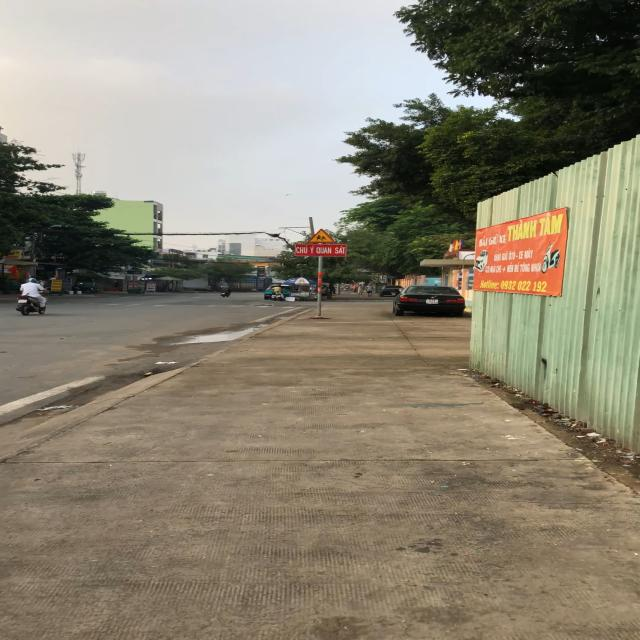Bien bao tre em: (306, 226, 336, 244)
